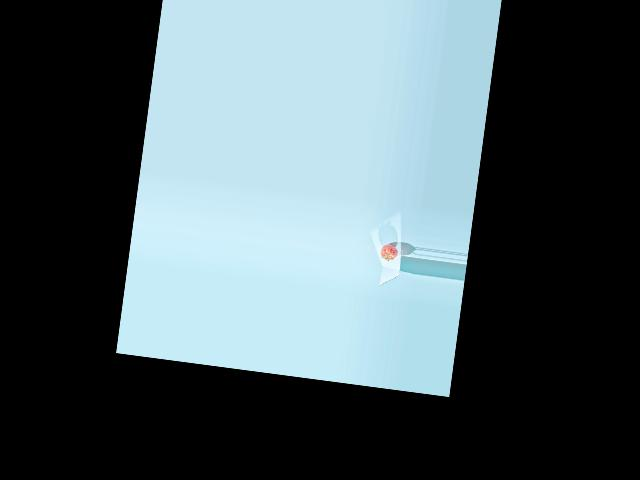tomato: (379, 243, 399, 261)
